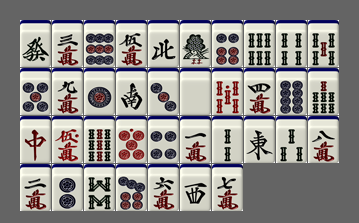0m: (52, 116, 83, 163)
0p: (116, 116, 147, 163)
0s: (212, 68, 243, 115)
1m: (180, 116, 211, 163)
1p: (84, 68, 115, 115)
1s: (180, 20, 211, 67)
1z: (244, 116, 275, 163)
2m: (20, 164, 51, 211)
2p: (52, 164, 83, 211)
2s: (212, 116, 243, 163)
2z: (116, 68, 147, 115)
3m: (52, 20, 83, 67)
3p: (148, 68, 179, 115)
3s: (276, 116, 307, 163)
3z: (180, 164, 211, 211)
4m: (244, 68, 275, 115)
4p: (148, 116, 179, 163)
4s: (276, 20, 307, 67)
4z: (148, 20, 179, 67)
5m: (116, 20, 147, 67)
5p: (20, 68, 51, 115)
5s: (308, 20, 339, 67)
5z: (180, 68, 211, 115)
6m: (148, 164, 179, 211)
6p: (212, 20, 243, 67)
6s: (244, 20, 275, 67)
6z: (20, 20, 51, 67)
7m: (212, 164, 243, 211)
7p: (116, 164, 147, 211)
7s: (308, 68, 339, 115)
7z: (20, 116, 51, 163)
8m: (308, 116, 339, 163)
8p: (276, 68, 307, 115)
8s: (84, 164, 115, 211)
9m: (52, 68, 83, 115)
9p: (84, 20, 115, 67)
9s: (84, 116, 115, 163)
